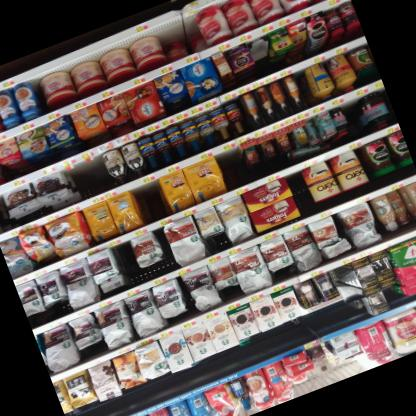empty_space: (69, 152, 109, 194), (217, 144, 250, 188), (135, 178, 166, 222), (242, 32, 272, 65), (111, 237, 131, 278)
